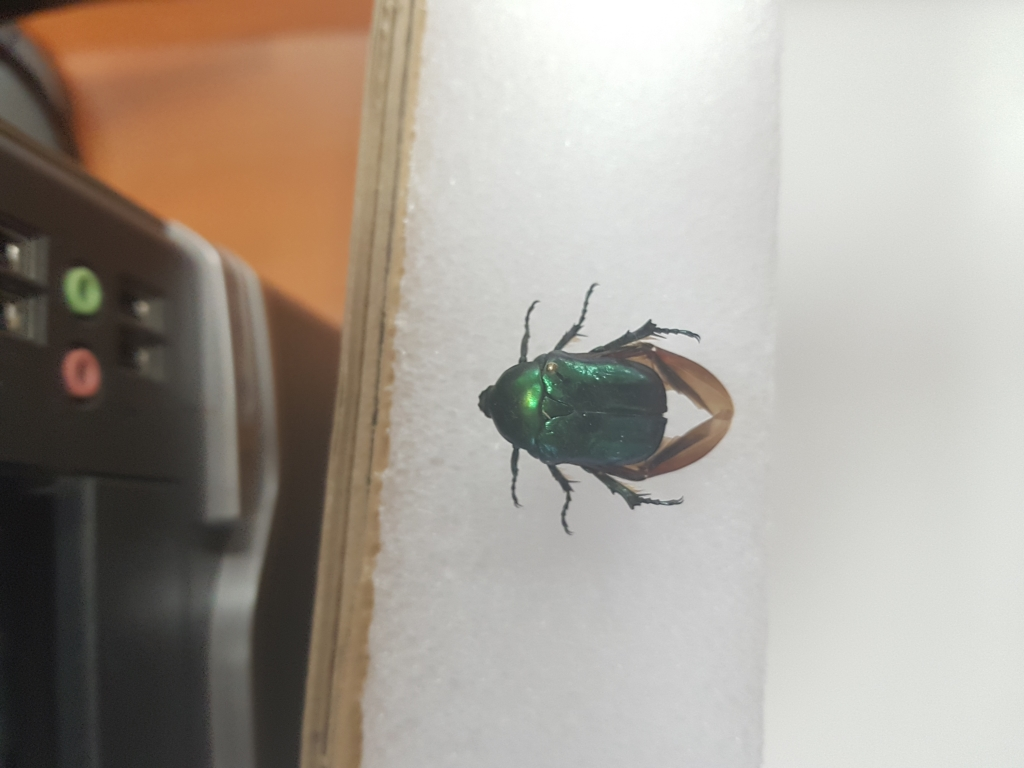Protaetia_angustata_angustata: (473, 274, 742, 538)
